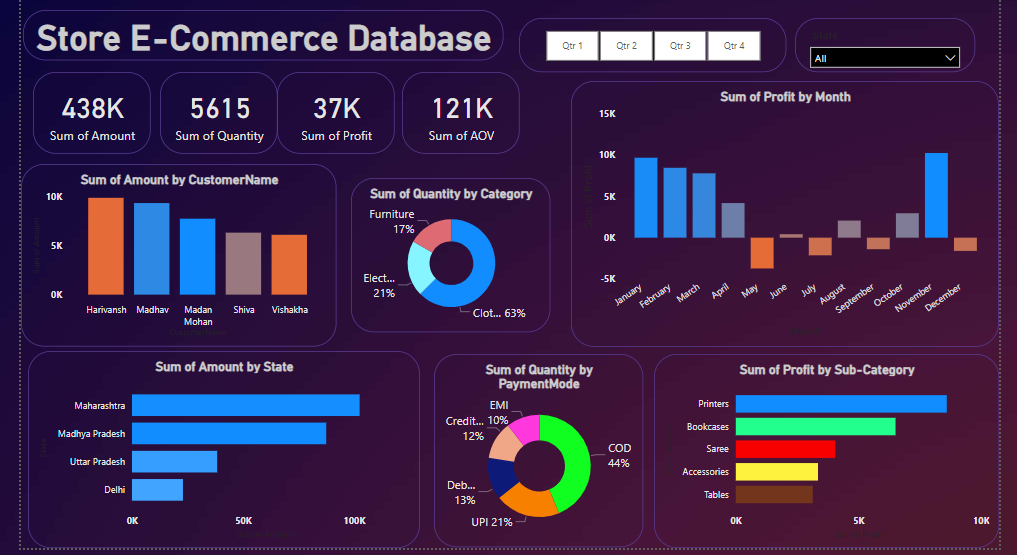

The dashboard page shown, as its layout file describes it:
{"tool":"powerbi","page":{"name":"Page 1","canvas":[1280,720],"ordinal":0},"visuals":[{"type":"textbox","title":"Store E-Commerce Database","box":[2.9,15.8,629.3,66.2],"z":0},{"type":"columnChart","fields":{"Y":["Details.Profit"],"Category":["Orders.Order Date.Variation.Date Hierarchy.Month"]},"box":[720,108,560.2,348.5],"z":1},{"type":"barChart","fields":{"Category":["Details.Sub-Category"],"Y":["Details.Profit"]},"box":[828,466.6,452.2,253.4],"z":2},{"type":"donutChart","fields":{"Category":["Details.Category"],"Y":["Details.Quantity"]},"box":[432,236.2,260.6,201.6],"z":3},{"type":"donutChart","fields":{"Y":["Details.Quantity"],"Category":["Details.PaymentMode"]},"box":[540,466.6,273.6,253.4],"z":4},{"type":"card","fields":{"Values":["Details.Amount"]},"box":[15.8,96.5,154.1,106.6],"z":5},{"type":"card","fields":{"Values":["Details.Quantity"]},"box":[181.4,96.5,154.1,106.6],"z":6},{"type":"card","fields":{"Values":["Details.Profit"]},"box":[335.5,96.5,154.1,106.6],"z":7},{"type":"card","fields":{"Values":["Details.AOV"]},"box":[498.2,96.5,154.1,106.6],"z":8},{"type":"barChart","fields":{"Y":["Details.Amount"],"Category":["Orders.State"]},"box":[8.6,462.2,512.6,257.8],"z":9},{"type":"columnChart","fields":{"Category":["Orders.CustomerName"],"Y":["Details.Amount"]},"box":[0,217.4,413.3,239],"z":10},{"type":"slicer","fields":{"Values":["Orders.Order Date.Variation.Date Hierarchy.Quarter"]},"box":[652.3,25.9,349.9,70.6],"z":11},{"type":"slicer","fields":{"Values":["Orders.State"]},"box":[1013.8,25.9,236.2,70.6],"z":12}]}

Visuals, with their boxes on the page's 1280x720 design canvas (x1, y1, x2, y2). These are canvas units, not pixel positions in the 1017x555 screenshot, which may show the page scaled, cropped or inside an application window:
"Store E-Commerce Database" textbox: box=[3, 16, 632, 82]
columnChart - Details.Profit x Orders.Order Date.Variation.Date Hierarchy.Month: box=[720, 108, 1280, 456]
barChart - Details.Sub-Category x Details.Profit: box=[828, 467, 1280, 720]
donutChart - Details.Category x Details.Quantity: box=[432, 236, 693, 438]
donutChart - Details.Quantity x Details.PaymentMode: box=[540, 467, 814, 720]
card - Details.Amount: box=[16, 96, 170, 203]
card - Details.Quantity: box=[181, 96, 336, 203]
card - Details.Profit: box=[336, 96, 490, 203]
card - Details.AOV: box=[498, 96, 652, 203]
barChart - Details.Amount x Orders.State: box=[9, 462, 521, 720]
columnChart - Orders.CustomerName x Details.Amount: box=[0, 217, 413, 456]
slicer - Orders.Order Date.Variation.Date Hierarchy.Quarter: box=[652, 26, 1002, 96]
slicer - Orders.State: box=[1014, 26, 1250, 96]
